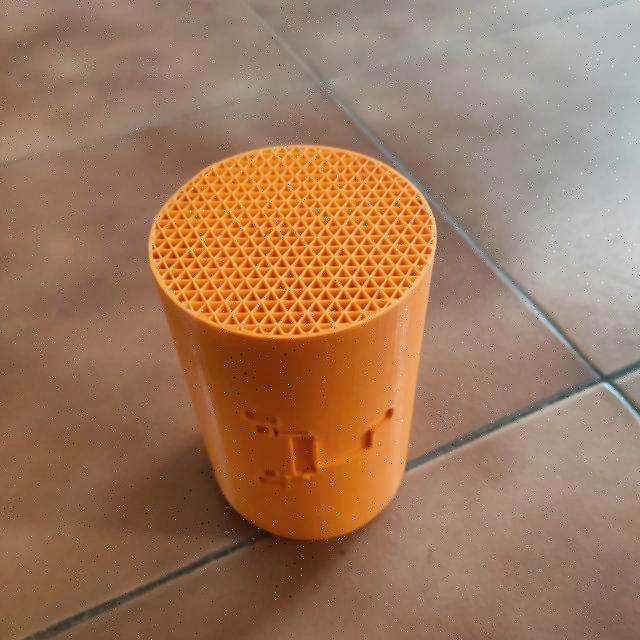Cylinder: (148, 143, 438, 541)
